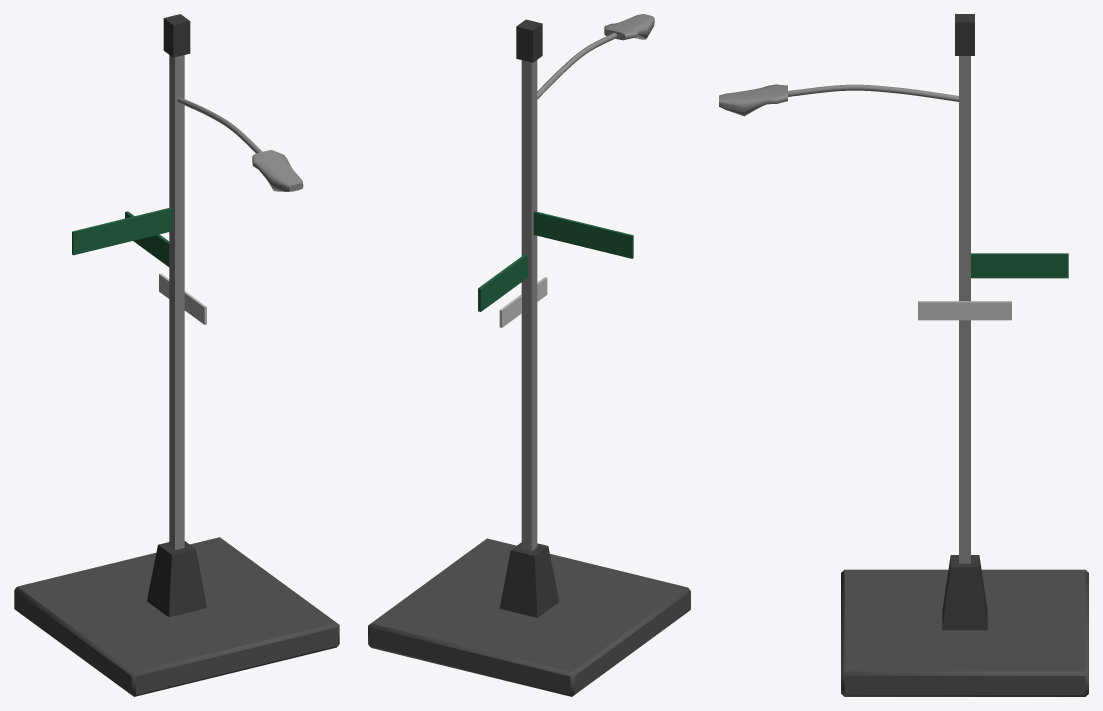
3 renders of one model, left to right at view 1: azimuth 30°, elevation 25°; view 2: azimuth 150°, elevation 25°; view 3: azimuth 270°, elevation 25°, orthographic. The views are drawn at different scales.
Parts seen in each view (by area): view 1: streetlamp; view 2: streetlamp; view 3: streetlamp.
Part boxes in pixels (left/top/right/bottom): streetlamp: left=14, top=14, right=339, bottom=696; streetlamp: left=368, top=14, right=690, bottom=696; streetlamp: left=719, top=14, right=1088, bottom=696.
Bounding box in the file's own units: 1.07 × 3 × 1.6.
